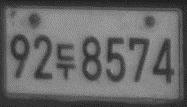2: (31, 33, 54, 81)
4: (152, 38, 175, 85)
5: (105, 35, 127, 82)
7: (127, 36, 151, 84)
8: (80, 35, 102, 81)
9: (9, 32, 31, 79)
두: (55, 42, 77, 80)
